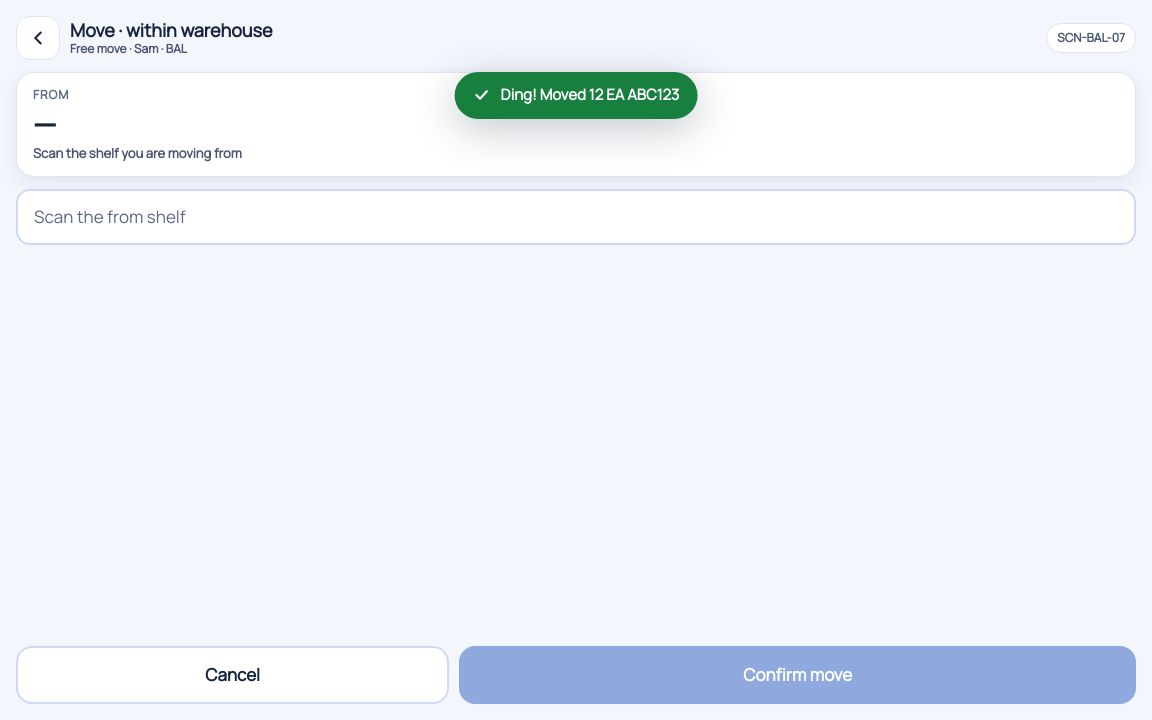
Test: Move › shows a field error from the WMS in a gold notice and keeps the move
Step 1. Type "BK-04-01-C" into the field labelled "Scan" → (576, 217), box [16,189,1136,245]
Then press Enter
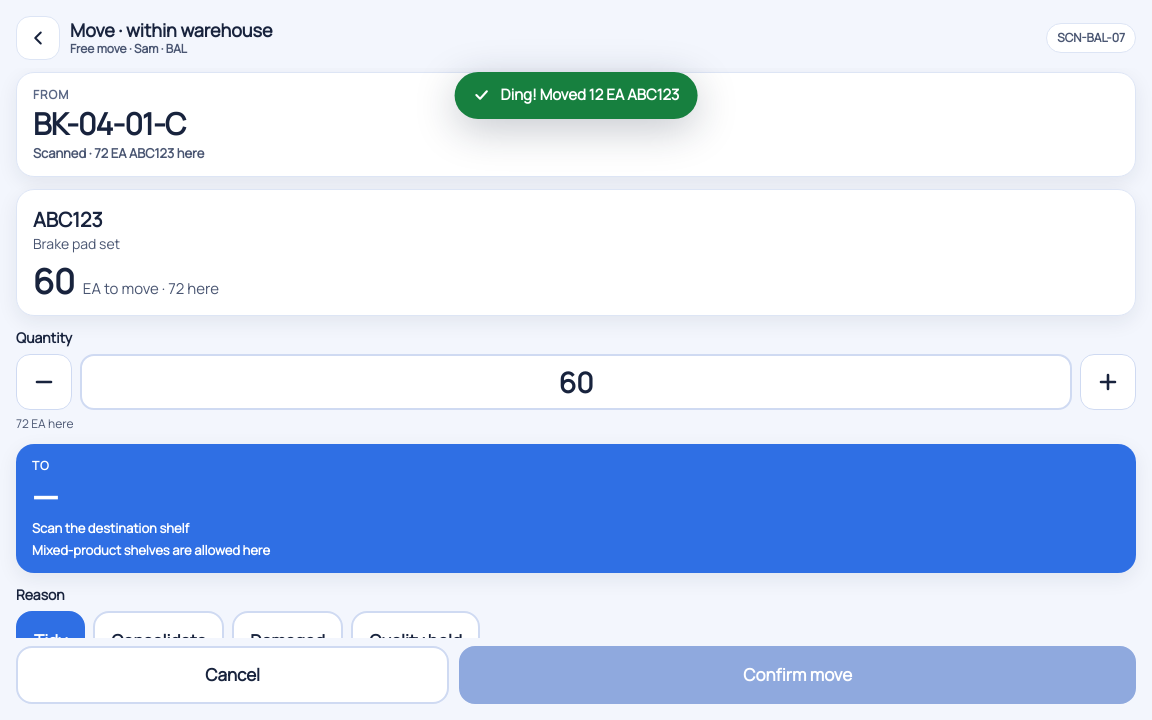
Check: the text "Scanned · 72 EA ABC123 here" is shown, box [33,144,204,162]
Step 2. Replace the text in the number field with "70" → (576, 382), box [80,354,1072,410]
(page scrolled)
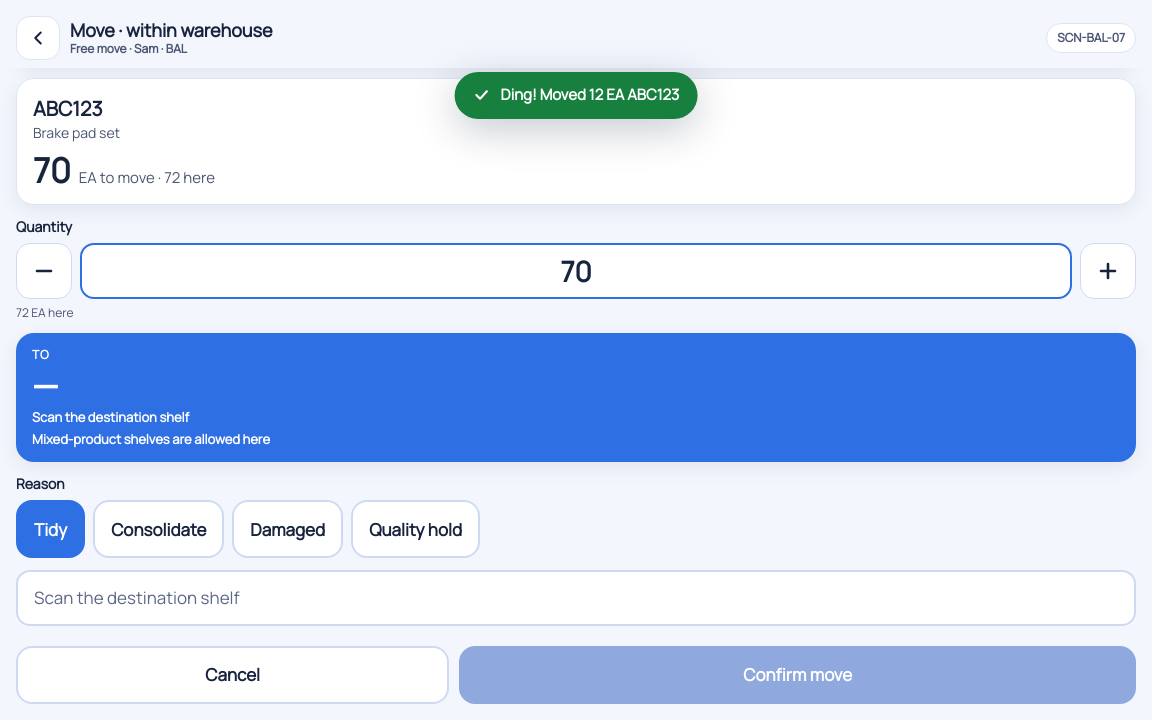
Step 3. Type "PF-01-02-A" into the field labelled "Scan" → (576, 598), box [16,570,1136,626]
Then press Enter
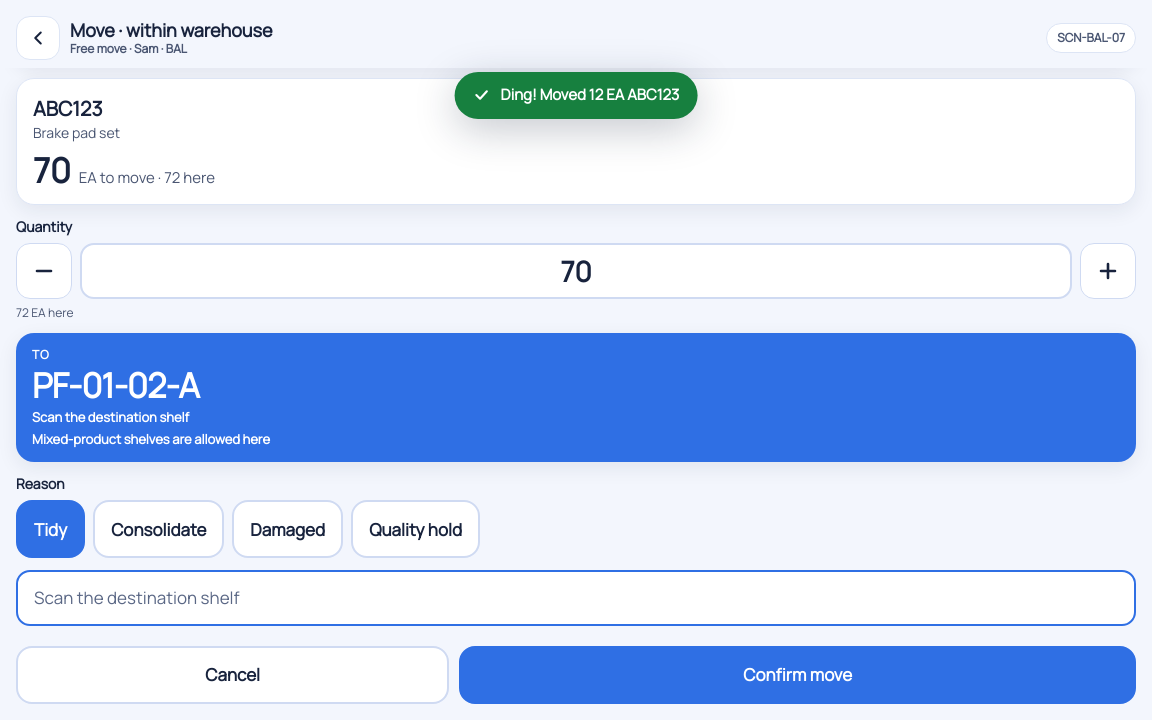
Check: the text "PF-01-02-A" is shown, box [32,362,199,408]
Step 4. Click the button "Confirm move" → (798, 675), box [459,646,1136,704]
(page scrolled)
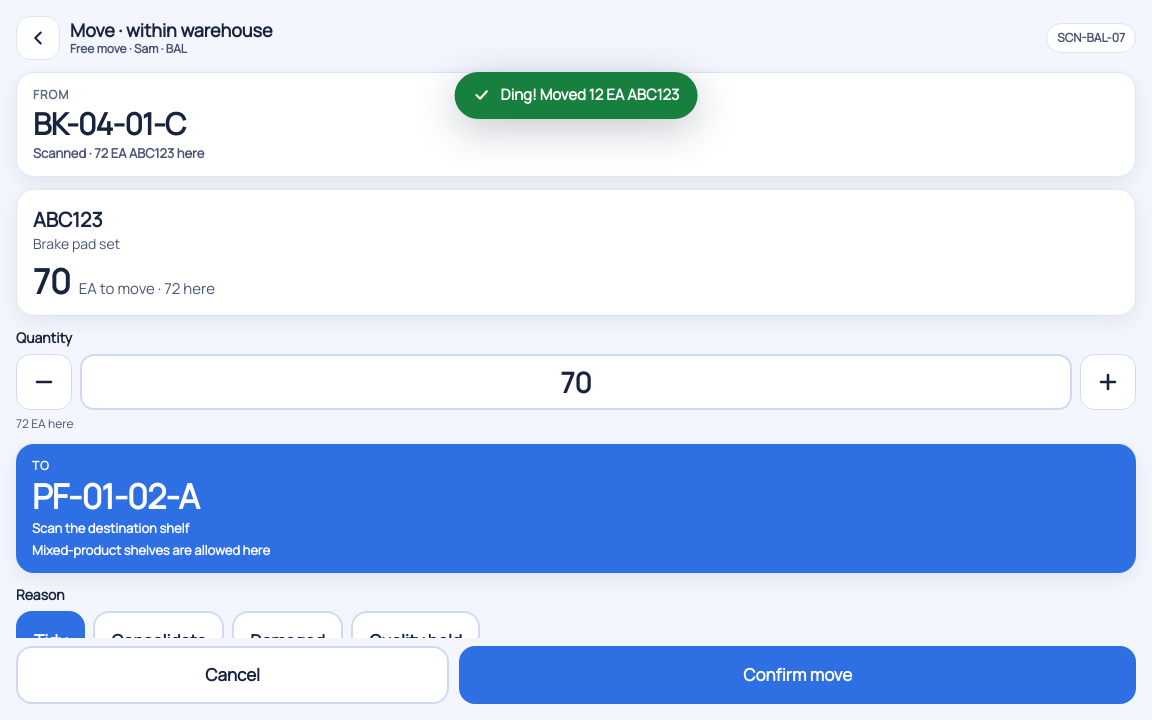
Check: the text "BK-04-01-C" is shown, box [33,103,186,144]
